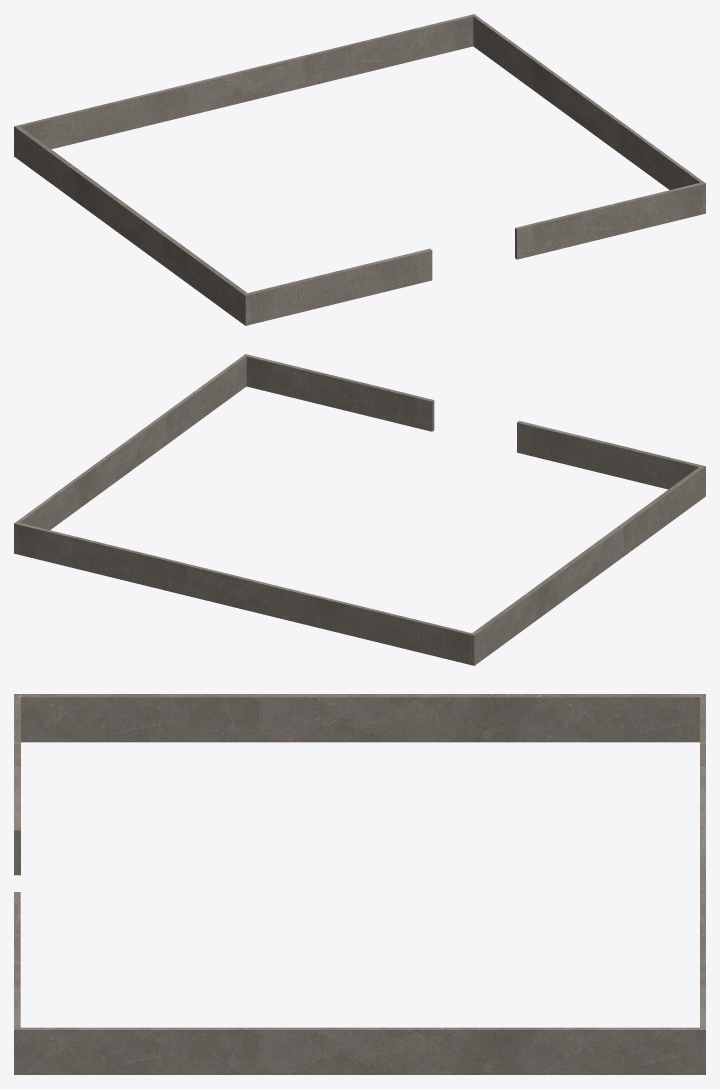
Rendered from Wall.fbx.
3 renders of one model, top to bottom at view 1: azimuth 30°, elevation 25°; view 2: azimuth 150°, elevation 25°; view 3: azimuth 270°, elevation 25°, orthographic. The views are drawn at different scales.
Visible parts, largest first — view 1: Wall; view 2: Wall; view 3: Wall.
Part boxes in pixels (left/top/right/bottom): Wall: left=14, top=14, right=705, bottom=325; Wall: left=14, top=354, right=705, bottom=665; Wall: left=14, top=694, right=705, bottom=1074.
Size of the model in its own units: 12811 by 11160 by 800.
1 material, 1 textured.
